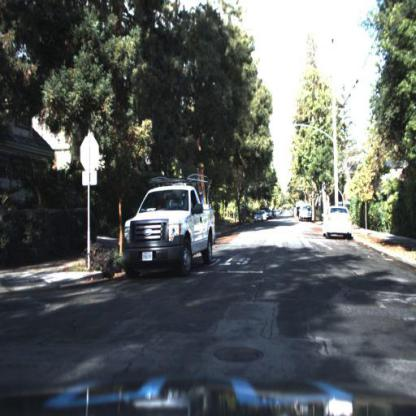car: (112, 158, 223, 284), (299, 200, 317, 229), (253, 211, 266, 227), (253, 211, 265, 228), (267, 209, 274, 221)
